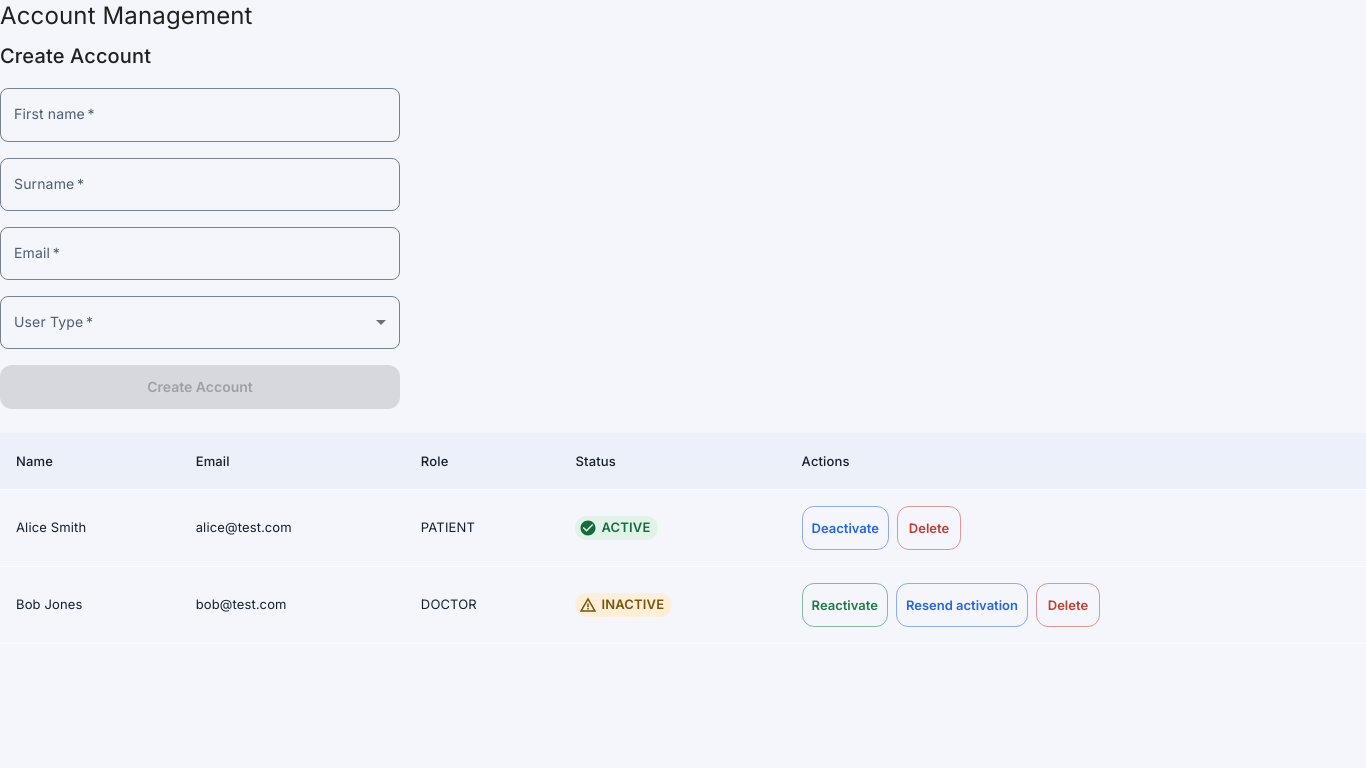
Test: AccountsPage › SR-027.2: cancelling delete dialog issues no request
Expected: the text "Alice Smith" is shown, [0,489,180,566]
Click the button "Delete" in the row of "Smith". click: (929, 528)
box: [897,506,961,550]
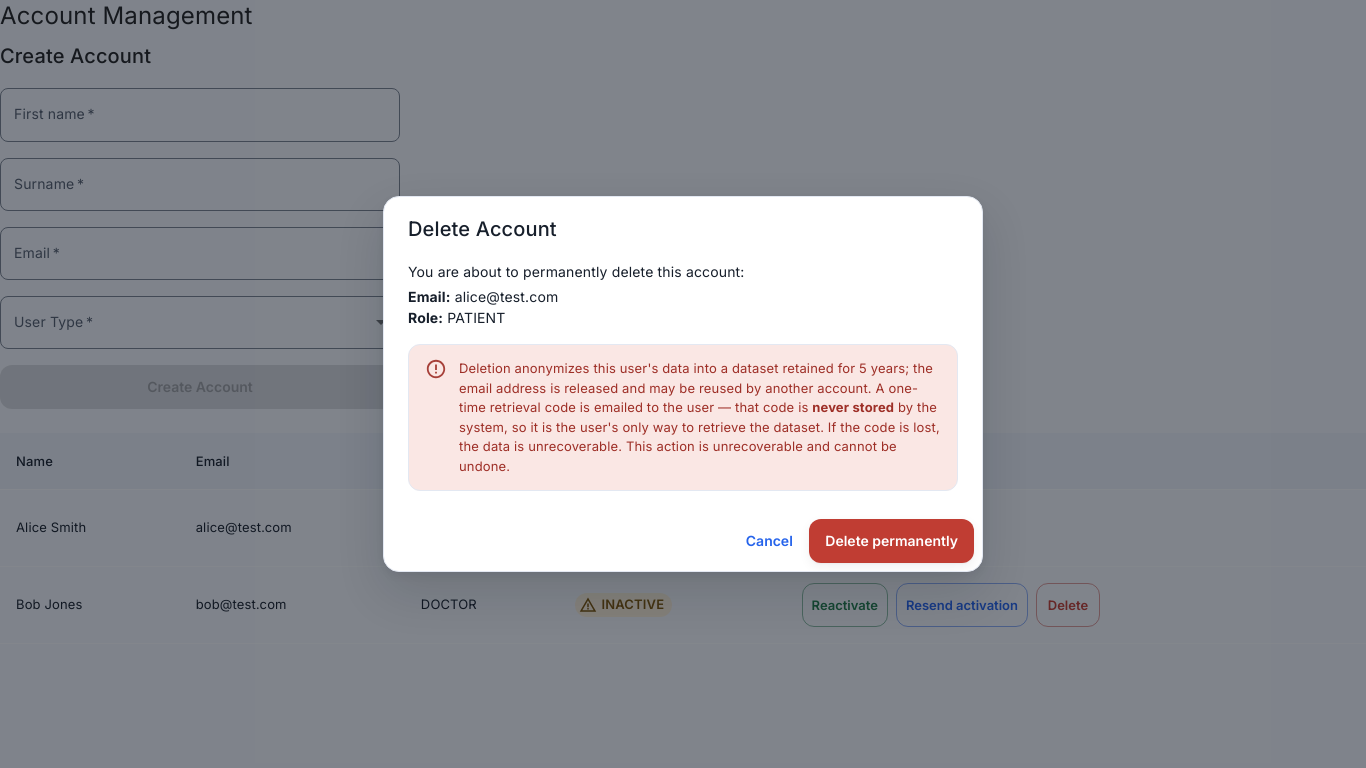
Now the dialog is shown, box [383,196,983,572]
Click the button "Cancel". click: (769, 541)
box: [737,519,801,563]
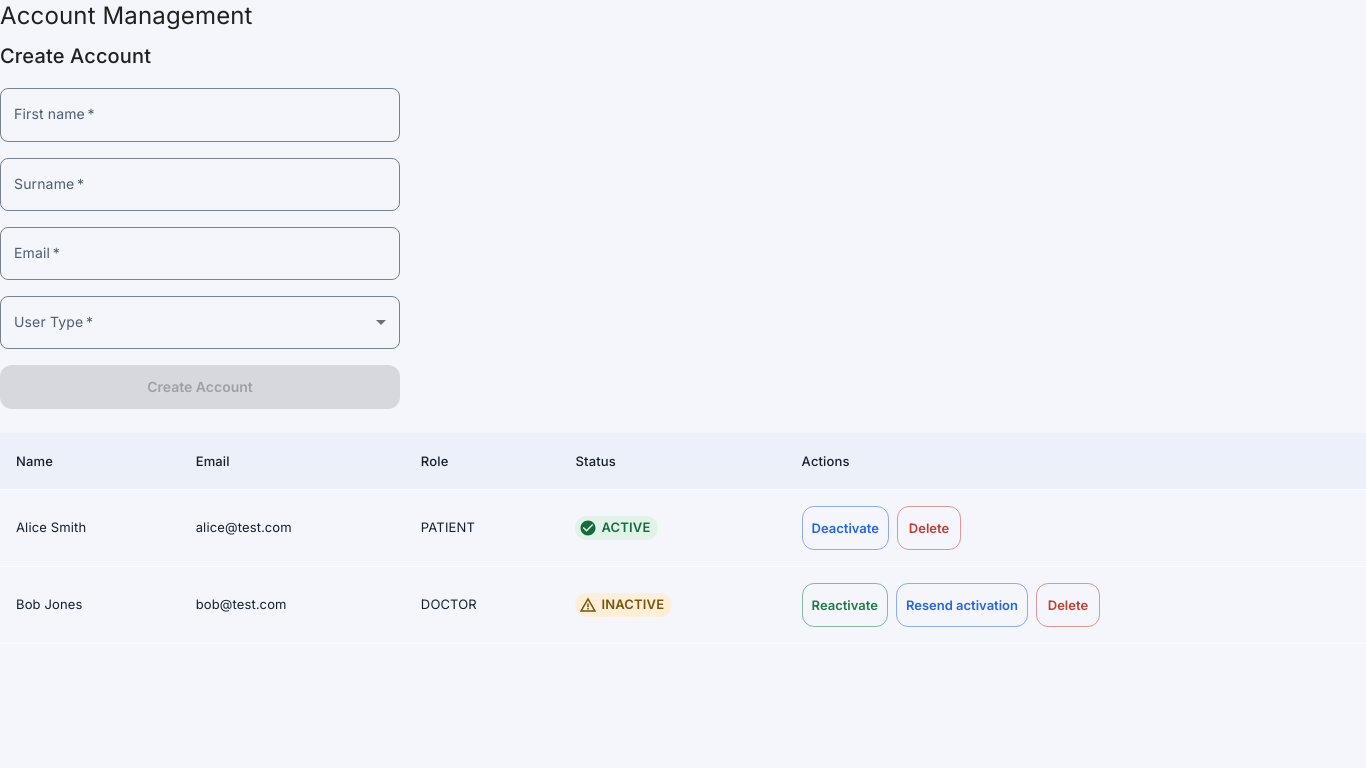
Now the dialog is gone
